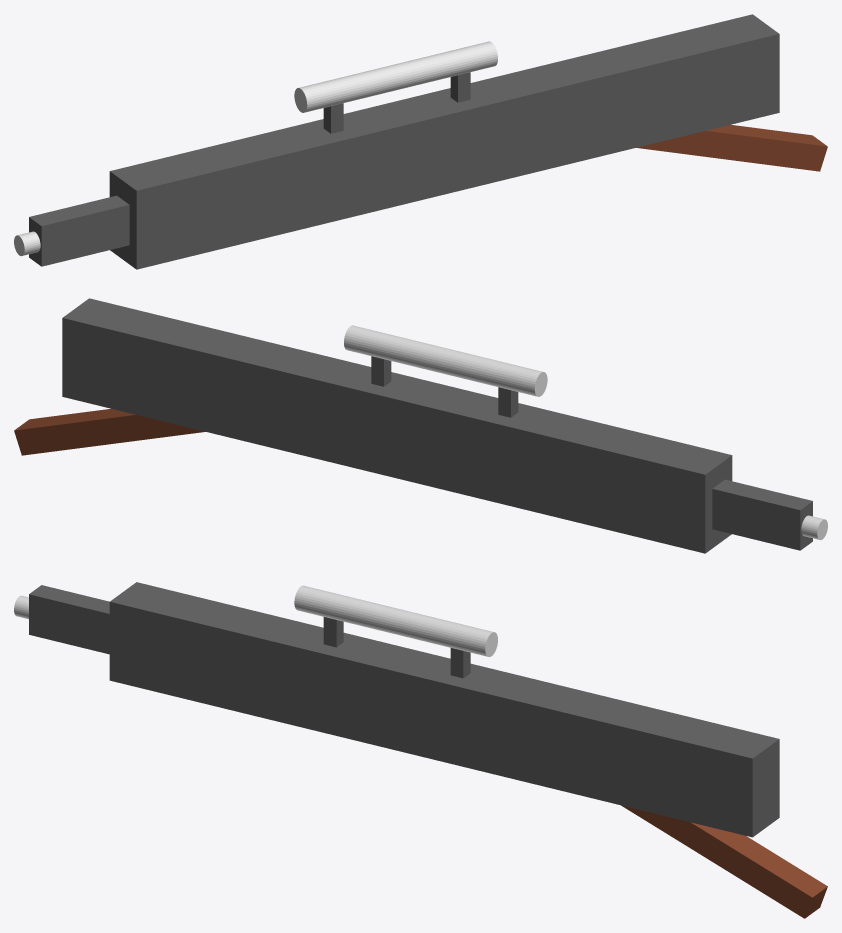
The model's file is BasicGun.glb.
3 views of the same model, one above another, from view 1: azimuth 30°, elevation 25°; view 2: azimuth 150°, elevation 25°; view 3: azimuth 330°, elevation 25° (orthographic).
Visible parts, largest first — view 1: Cube, Cylinder.001, Cube.001, Cube.005, Cube.003, Cube.004, Cylinder; view 2: Cube, Cylinder.001, Cube.001, Cube.005, Cube.003, Cube.004, Cylinder; view 3: Cube, Cube.001, Cylinder.001, Cube.005.
Boxes of the visible parts, <box> form: Cube: <box>109,14,779,269</box>; Cylinder.001: <box>294,41,497,112</box>; Cube.001: <box>636,124,827,171</box>; Cube.005: <box>29,195,129,266</box>; Cube.003: <box>450,72,470,102</box>; Cube.004: <box>323,103,343,133</box>; Cylinder: <box>14,231,40,256</box>; Cube: <box>62,298,732,553</box>; Cylinder.001: <box>344,325,547,396</box>; Cube.001: <box>14,408,205,455</box>; Cube.005: <box>712,479,812,550</box>; Cube.003: <box>371,356,391,386</box>; Cube.004: <box>498,387,518,417</box>; Cylinder: <box>801,515,827,540</box>; Cube: <box>109,582,779,837</box>; Cube.001: <box>621,805,827,918</box>; Cylinder.001: <box>294,585,497,656</box>; Cube.005: <box>29,585,109,654</box>.
Size of the model in its own units: 1.5 by 0.3625 by 0.0873.
